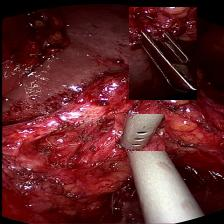Grasper: (128, 7, 196, 100)
Irrigator: (113, 114, 164, 151)
